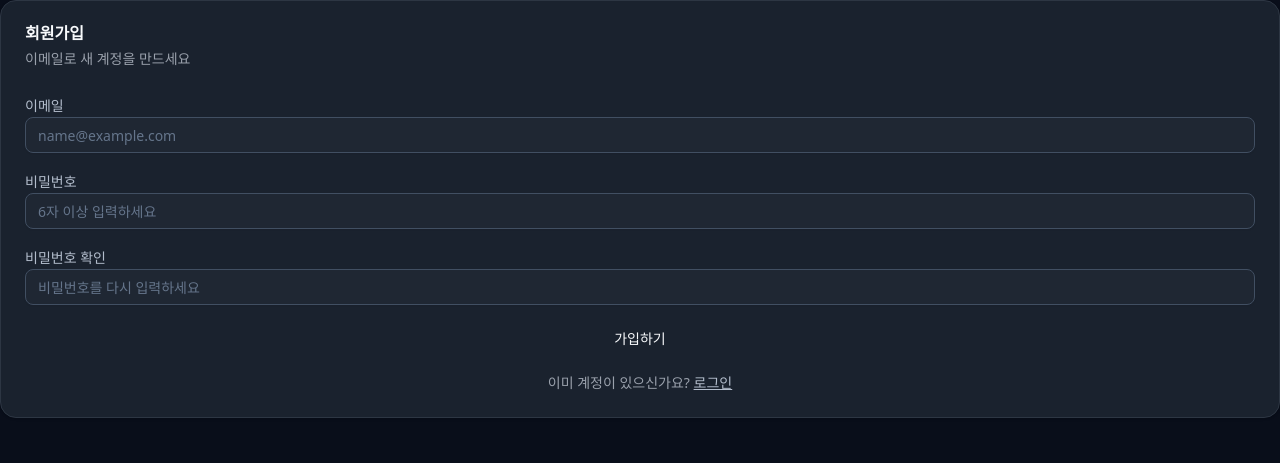
SignupForm › 비밀번호 불일치 시 에러 메시지를 표시한다
In the field labelled "이메일": (640, 135) top-left (25, 117), bottom-right (1255, 153), type "test@example.com"
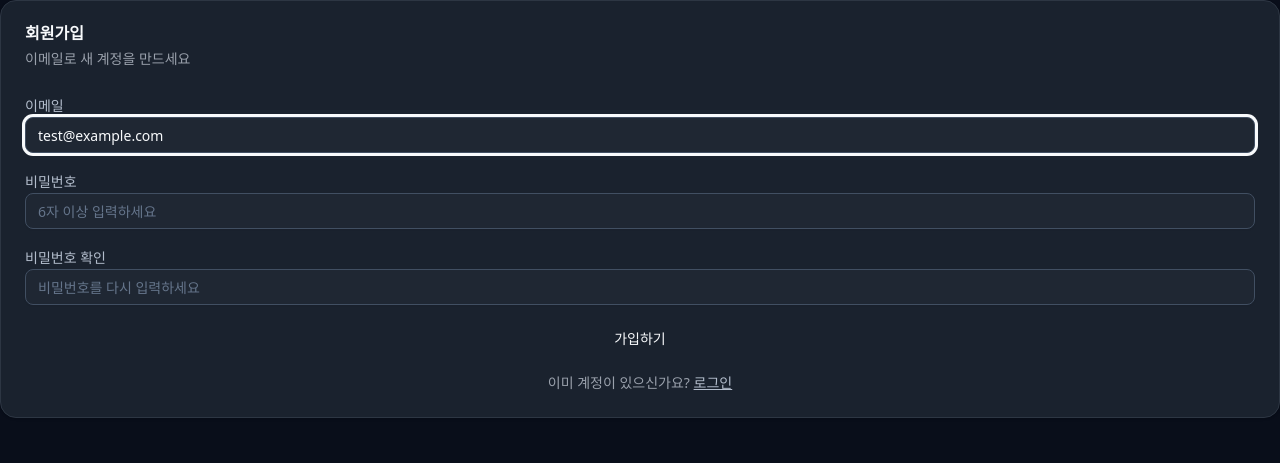
In the password field labelled "비밀번호": (640, 211) top-left (25, 193), bottom-right (1255, 229), type "password123"
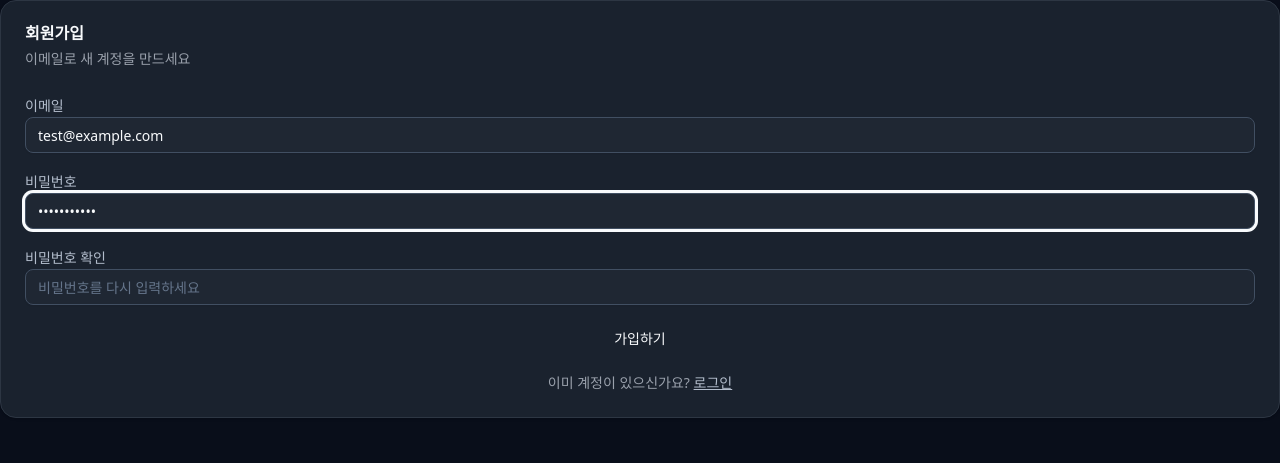
In the password field labelled "비밀번호 확인": (640, 287) top-left (25, 269), bottom-right (1255, 305), type "different123"
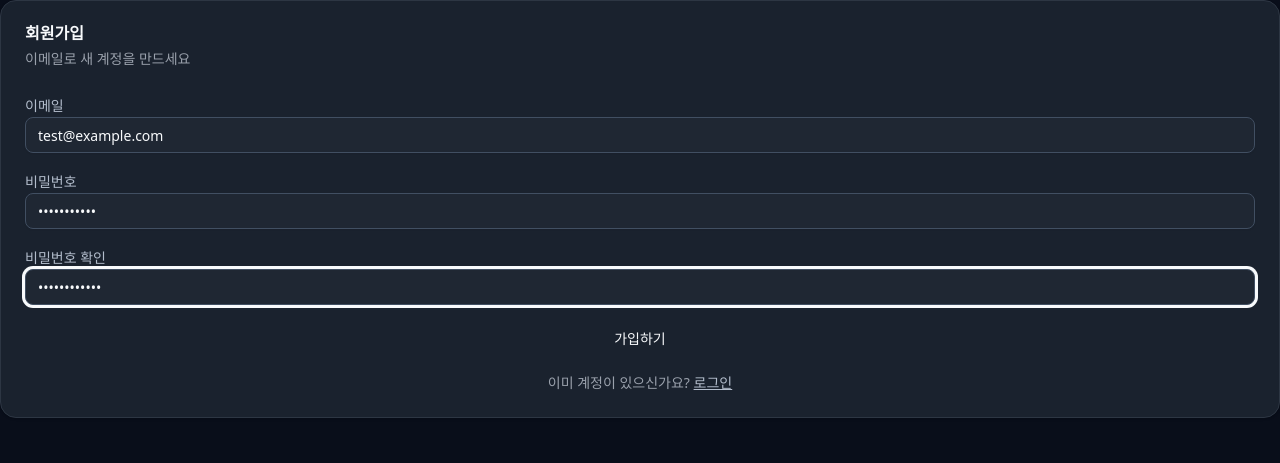
Click the button "가입하기": (640, 339) top-left (25, 321), bottom-right (1255, 357)
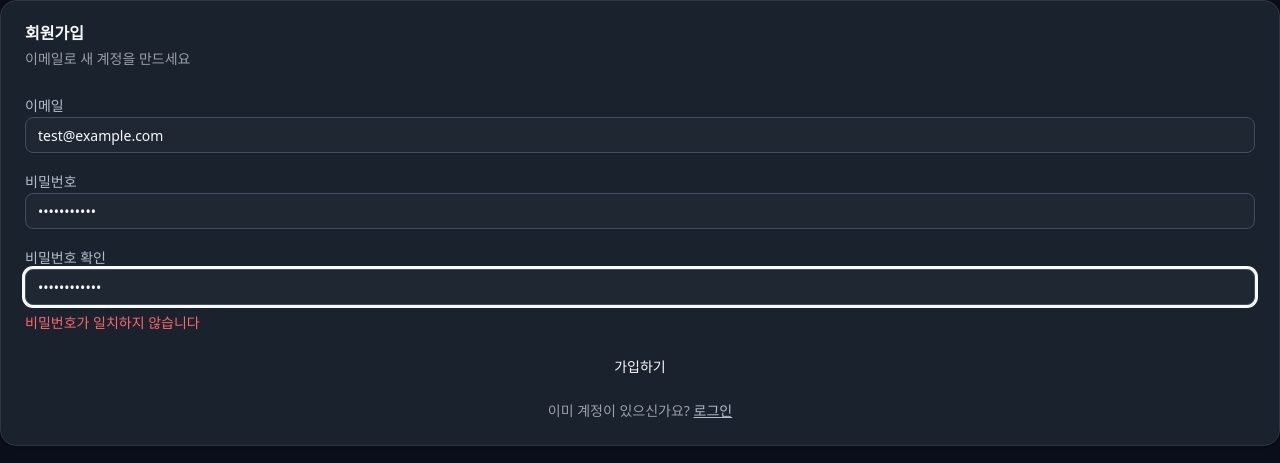
expect the text "비밀번호가 일치하지 않습니다" is shown: met, box top-left (25, 313), bottom-right (200, 332)
